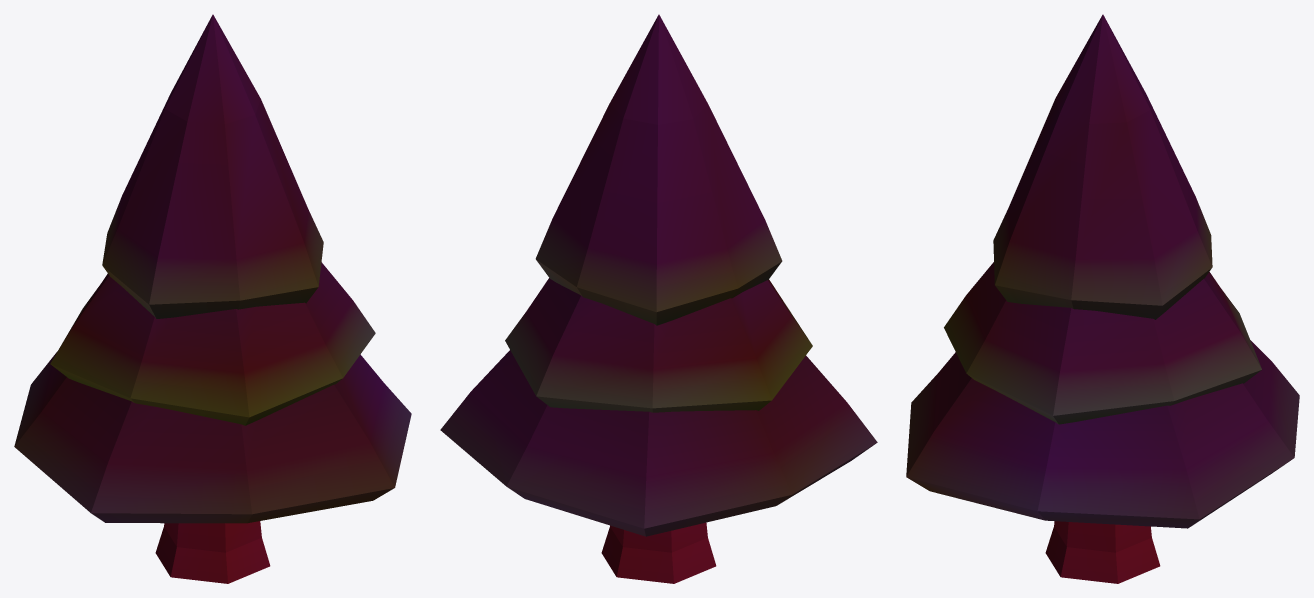
The model's file is Tree_Pine_Medium_01.fbx.
3 renders of one model, left to right at view 1: azimuth 30°, elevation 25°; view 2: azimuth 150°, elevation 25°; view 3: azimuth 270°, elevation 25°, orthographic.
Parts seen in each view (by area): view 1: Tree_Pine_Medium_01; view 2: Tree_Pine_Medium_01; view 3: Tree_Pine_Medium_01.
Part boxes in pixels (x1,y1,x2,y2): Tree_Pine_Medium_01: [14, 14, 411, 583]; Tree_Pine_Medium_01: [440, 14, 877, 583]; Tree_Pine_Medium_01: [906, 14, 1299, 583].
Bounding box in the file's own units: 2.45 × 3.75 × 2.45.
